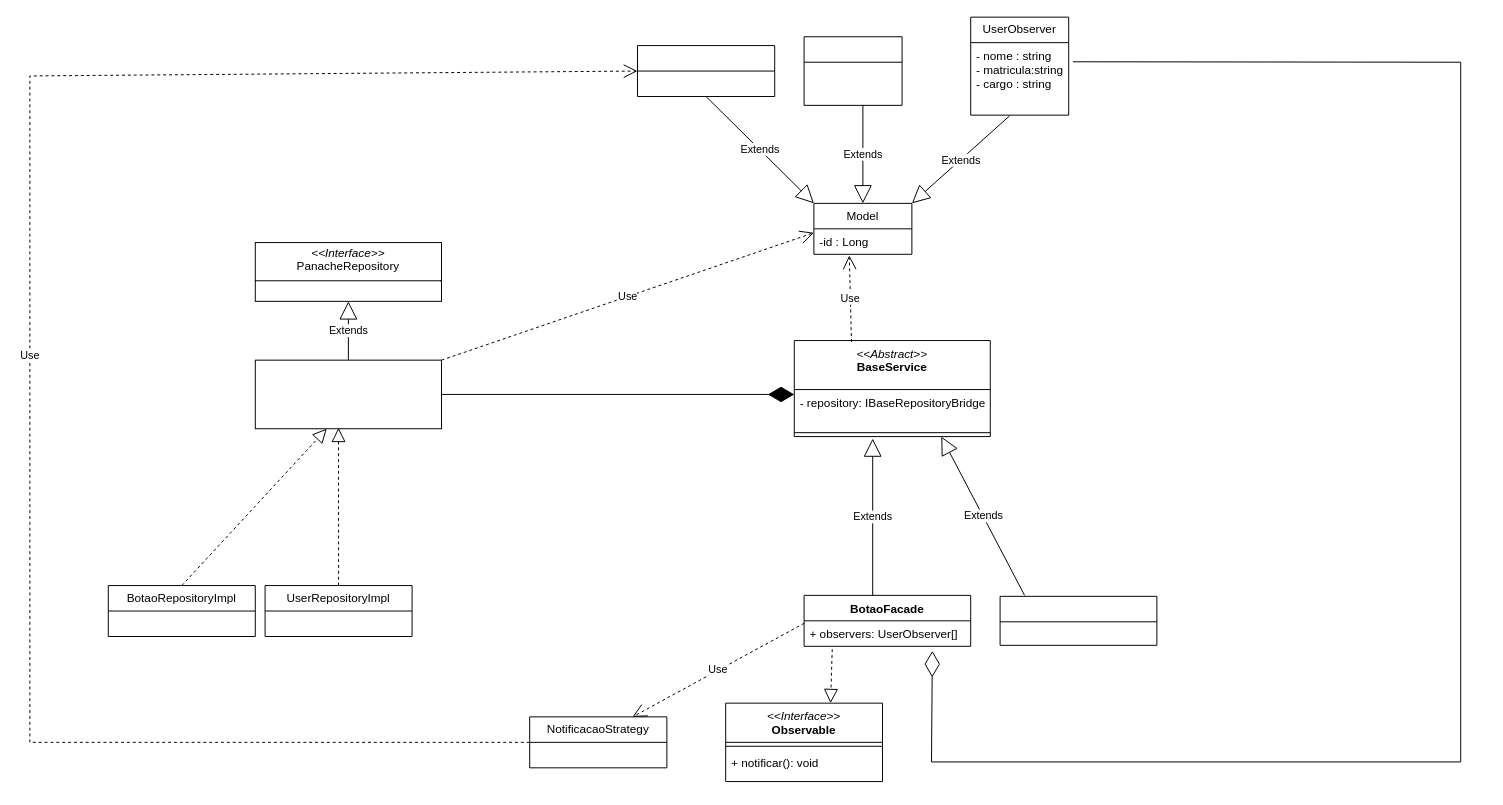
Some shapes in this 1503 by 805 pixel diagram are drawn without their labels. Here are the shapes that lost their labels. From the top down, the centre of each, then its label:
the point at 706,71: NotificacaoBuilder
the point at 852,70: Botao
the point at 347,394: <<Interface>> IBaseRepositoryBridge
the point at 1078,620: UserProxy
